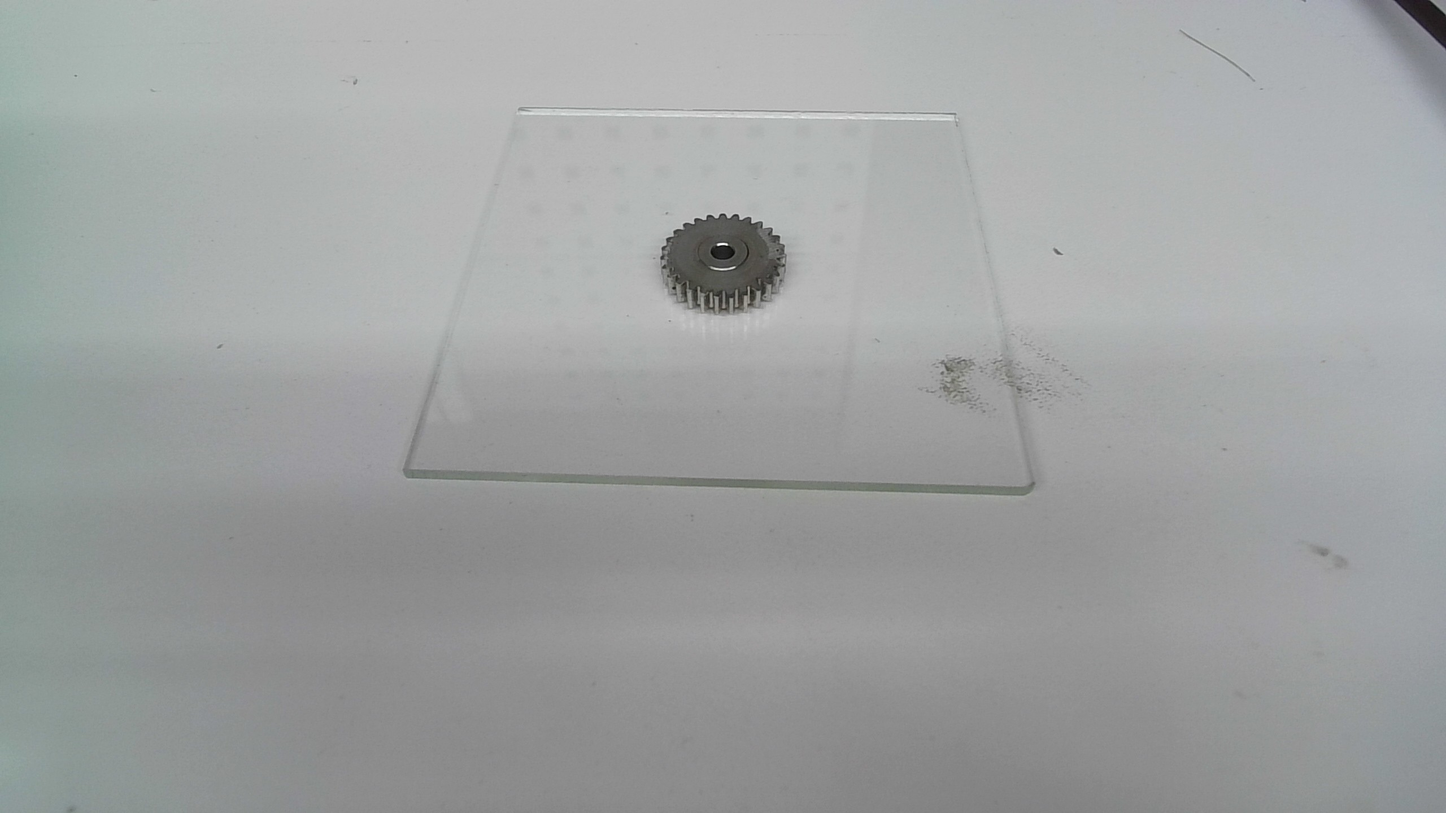gear: (657, 212, 790, 317)
